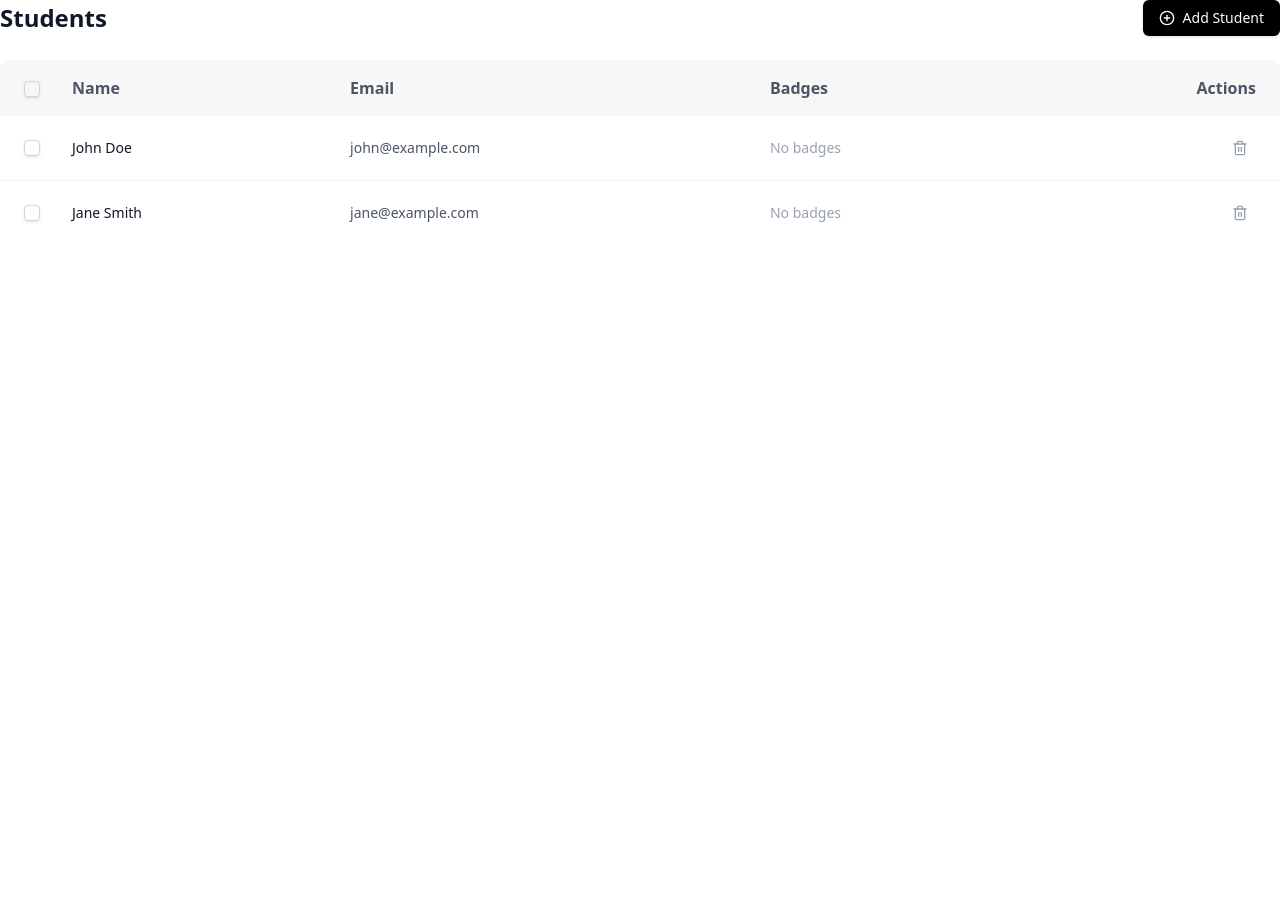
Test case: StudentDashboard › opens student details when clicking a row
Click the text "John Doe": [640, 148] box [0,116,1279,180]
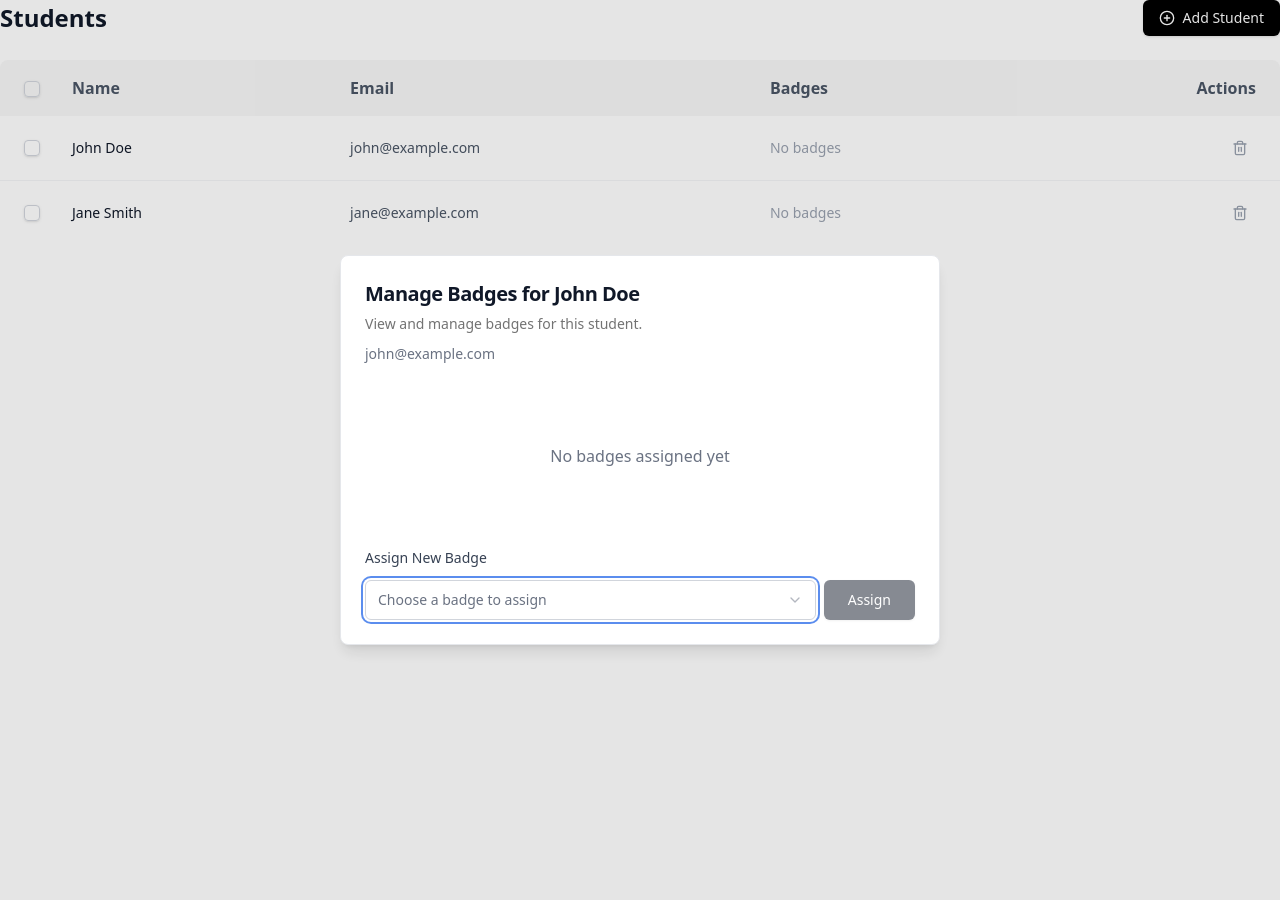
Expected: the heading "Manage Badges for John Doe" is shown, [365,280,640,307]
